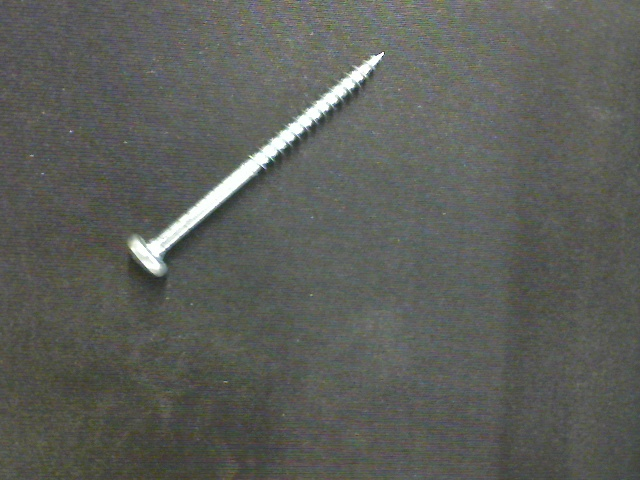Screw: (128, 51, 383, 280)
